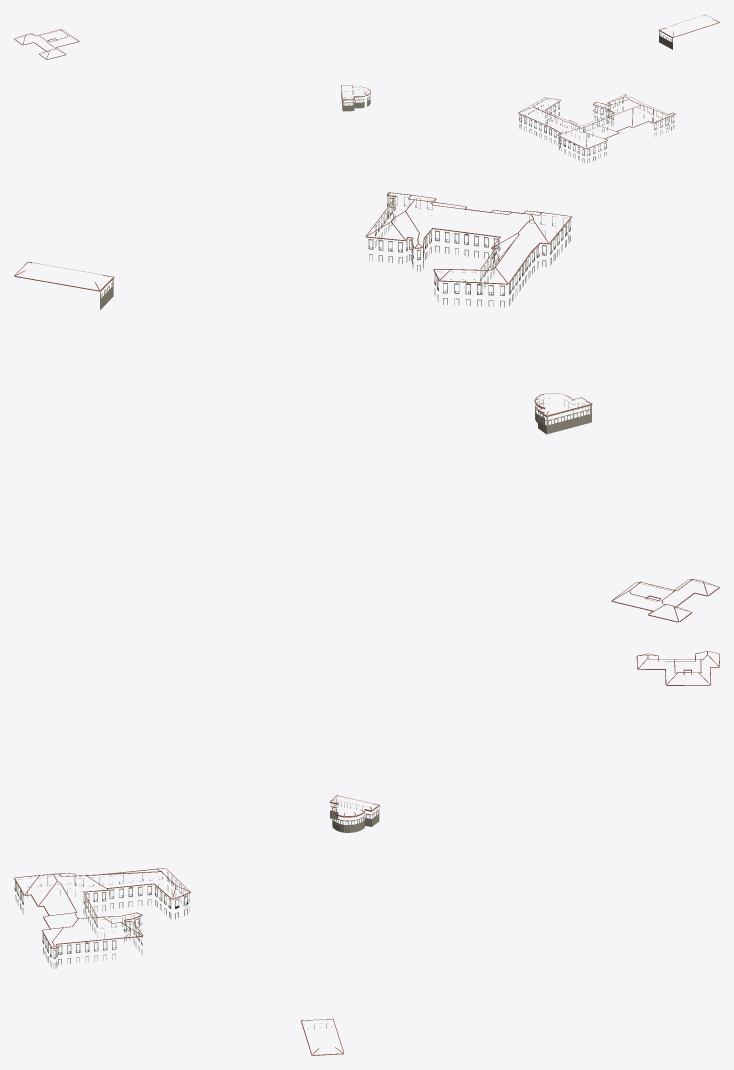
3 renders of one model, top to bottom at view 1: azimuth 30°, elevation 25°; view 2: azimuth 150°, elevation 25°; view 3: azimuth 270°, elevation 25°, orthographic. The views are drawn at different scales.
Parts seen in each view (by area): view 1: detail; view 2: detail; view 3: detail.
Part boxes in pixels (x1=…): detail: x1=14, y1=14, x2=719, y2=162; detail: x1=14, y1=192, x2=719, y2=622; detail: x1=14, y1=651, x2=719, y2=1055.
Bounding box in the file's own units: 380 × 20.46 × 296.
